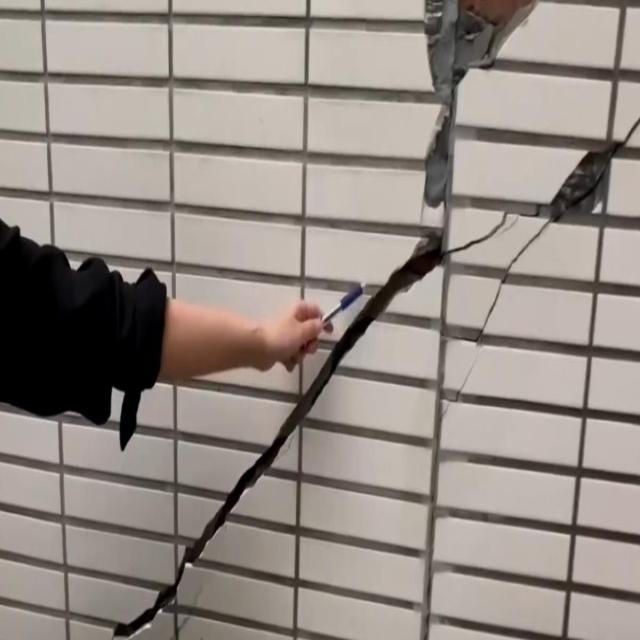Crack: (114, 231, 436, 640), (553, 156, 612, 224), (448, 212, 506, 254), (507, 222, 552, 272), (481, 281, 504, 334), (460, 348, 482, 392), (623, 115, 640, 144), (194, 587, 204, 606), (442, 402, 451, 420), (178, 615, 188, 631)
tile: (456, 0, 536, 27)
